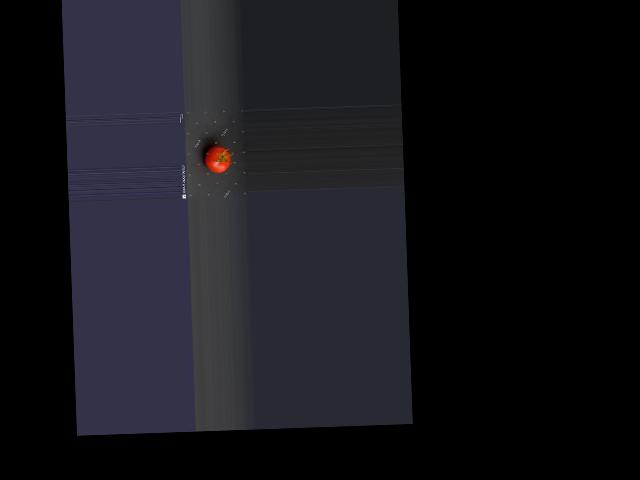tomato: (205, 145, 231, 173)
